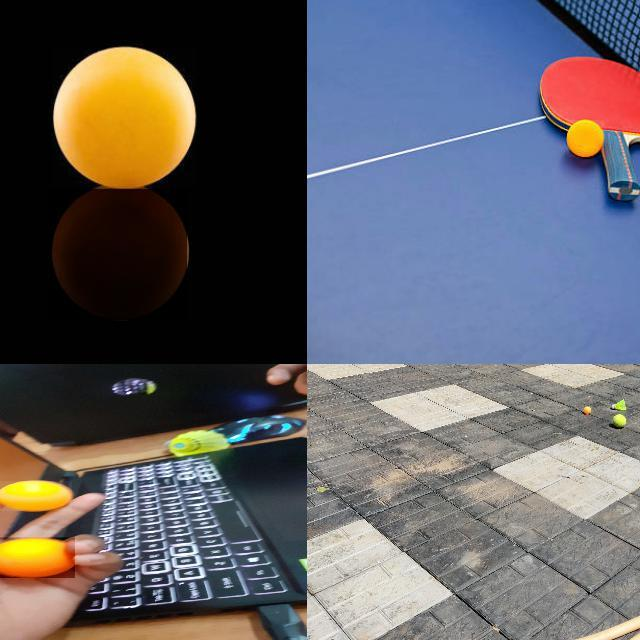ping-pong-ball: (52, 46, 198, 190), (50, 189, 188, 321), (0, 538, 76, 578), (0, 481, 73, 511), (567, 120, 605, 158), (581, 406, 591, 414)
